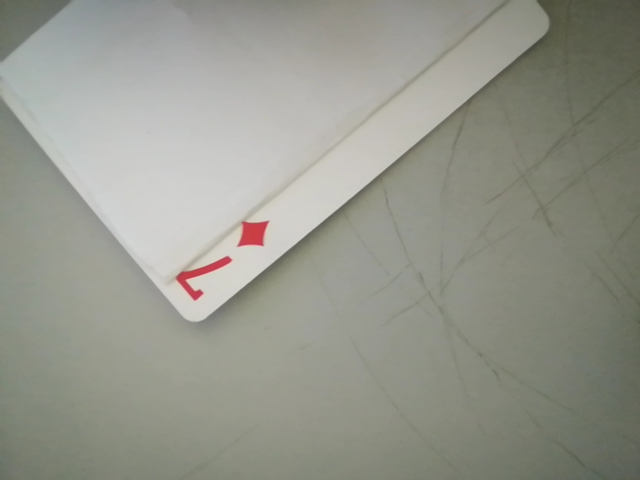fk 7: (166, 216, 281, 314)
